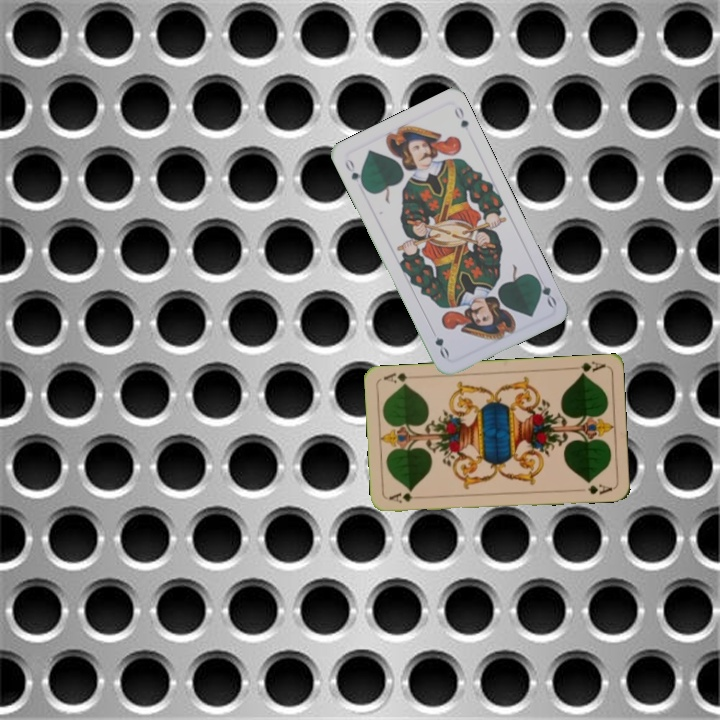GA: (576, 358, 607, 378), (385, 489, 415, 506)
GO: (531, 273, 559, 310), (341, 155, 368, 191)
